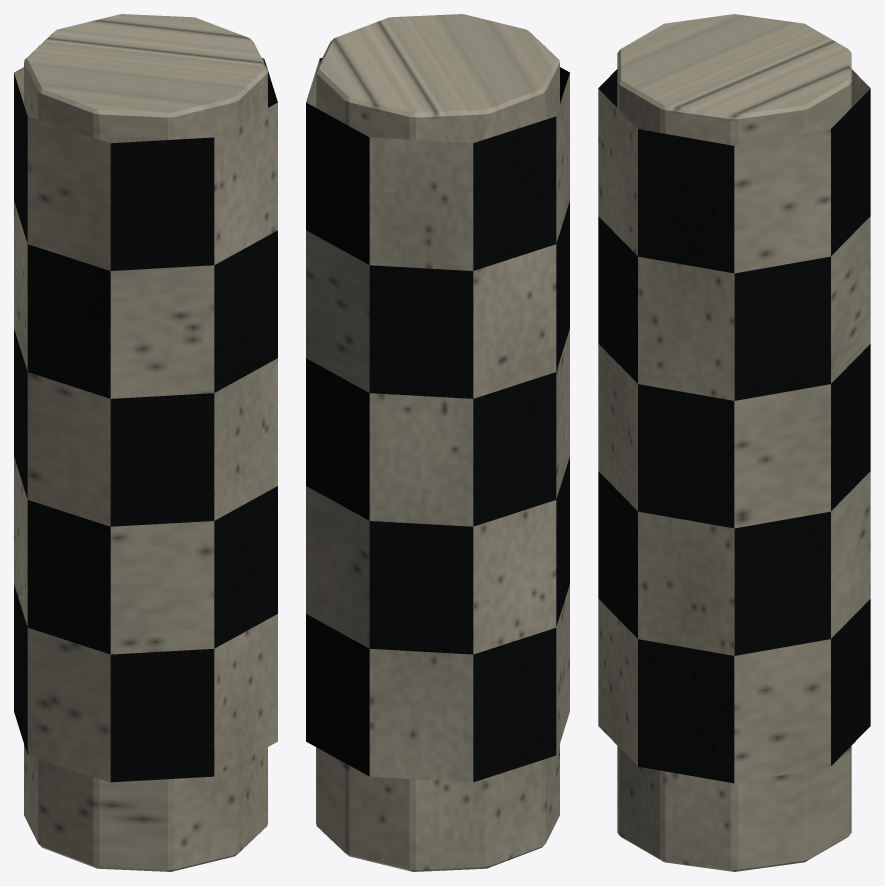
File: PROP-994B2FFBFC1E_lod1.glb
3 views of the same model, side by side, from view 1: azimuth 30°, elevation 25°; view 2: azimuth 150°, elevation 25°; view 3: azimuth 270°, elevation 25° (orthographic).
Parts seen in each view (by area): view 1: checker_pattern.002, checker_pattern.003, bollard.001; view 2: checker_pattern.003, checker_pattern.002, bollard.001; view 3: checker_pattern.002, checker_pattern.003, bollard.001.
Boxes of the visible parts, bbox=[...] form: checker_pattern.002: bbox=[14, 58, 277, 782]; checker_pattern.003: bbox=[14, 59, 277, 782]; bollard.001: bbox=[24, 14, 267, 871]; checker_pattern.003: bbox=[306, 58, 569, 782]; checker_pattern.002: bbox=[306, 59, 569, 782]; bollard.001: bbox=[316, 14, 559, 871]; checker_pattern.002: bbox=[598, 69, 870, 783]; checker_pattern.003: bbox=[598, 69, 870, 783]; bollard.001: bbox=[617, 14, 851, 871].
Bounding box in the file's own units: 0.31 × 0.95 × 0.31.
Materials: 2 (2 with a texture image).
